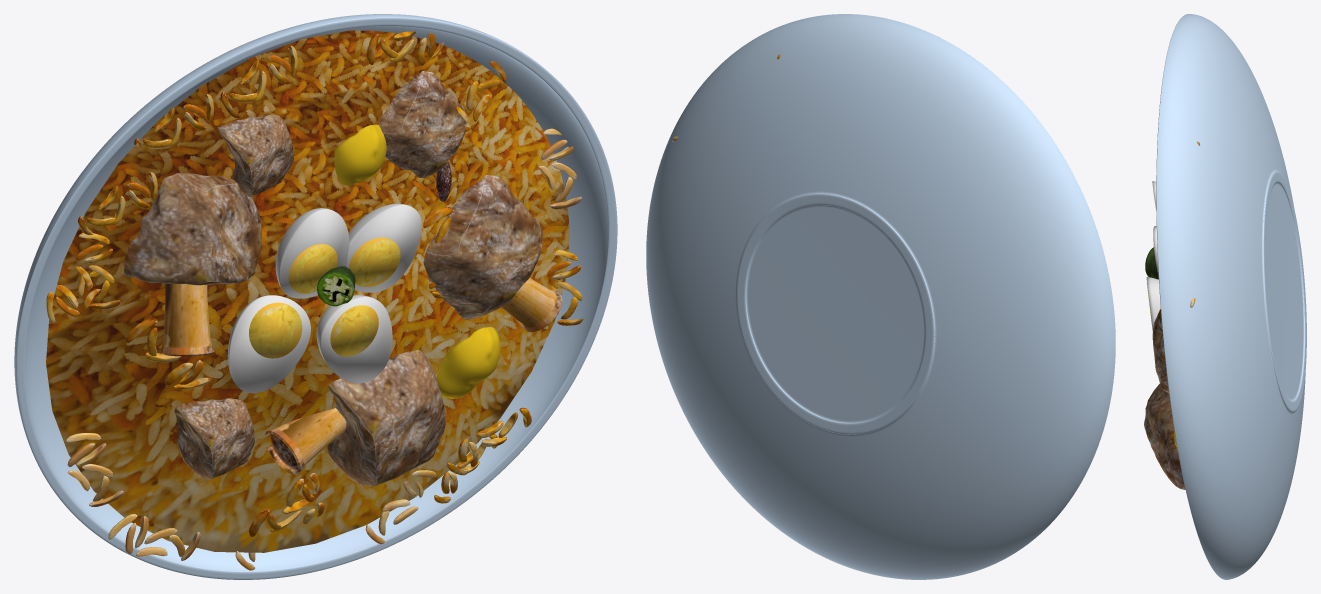
Rendered from medium_mtn_bryni.glb.
The picture shows the model from 3 angles, left to right: view 1: azimuth 30°, elevation 25°; view 2: azimuth 150°, elevation 25°; view 3: azimuth 270°, elevation 25°; orthographic projection. The views are drawn at different scales.
Visible parts, largest first — view 1: Cone, Kugel.005, Cube.001, Cube, Cube.002, Cube.003, Sphere, Sphere.006, Cube.004, Sphere.001, Sphere.007, Cube.005 (+22 smaller); view 2: Kugel.005; view 3: Kugel.005, Cube, Cube.002, Sphere.006, Cylinder.003.
Part boxes in pixels (x1,y1,x2,y2): Cone: (46, 30, 569, 552); Kugel.005: (14, 14, 617, 579); Cube.001: (124, 173, 261, 285); Cube: (327, 349, 445, 486); Cube.002: (423, 175, 542, 320); Cube.003: (377, 71, 466, 177); Sphere: (227, 295, 310, 393); Sphere.006: (316, 295, 392, 383); Cube.004: (174, 398, 254, 479); Sphere.001: (346, 203, 421, 292); Sphere.007: (275, 208, 349, 298); Cube.005: (217, 114, 293, 196); Kugel.005: (646, 14, 1115, 579); Kugel.005: (1156, 14, 1306, 579); Cube: (1144, 383, 1185, 489); Cube.002: (1152, 309, 1168, 392); Sphere.006: (1146, 277, 1160, 331); Cylinder.003: (1145, 247, 1158, 279).
Size of the model in its own units: 8.74 by 8.72 by 2.53.
42 materials, 35 textured.
